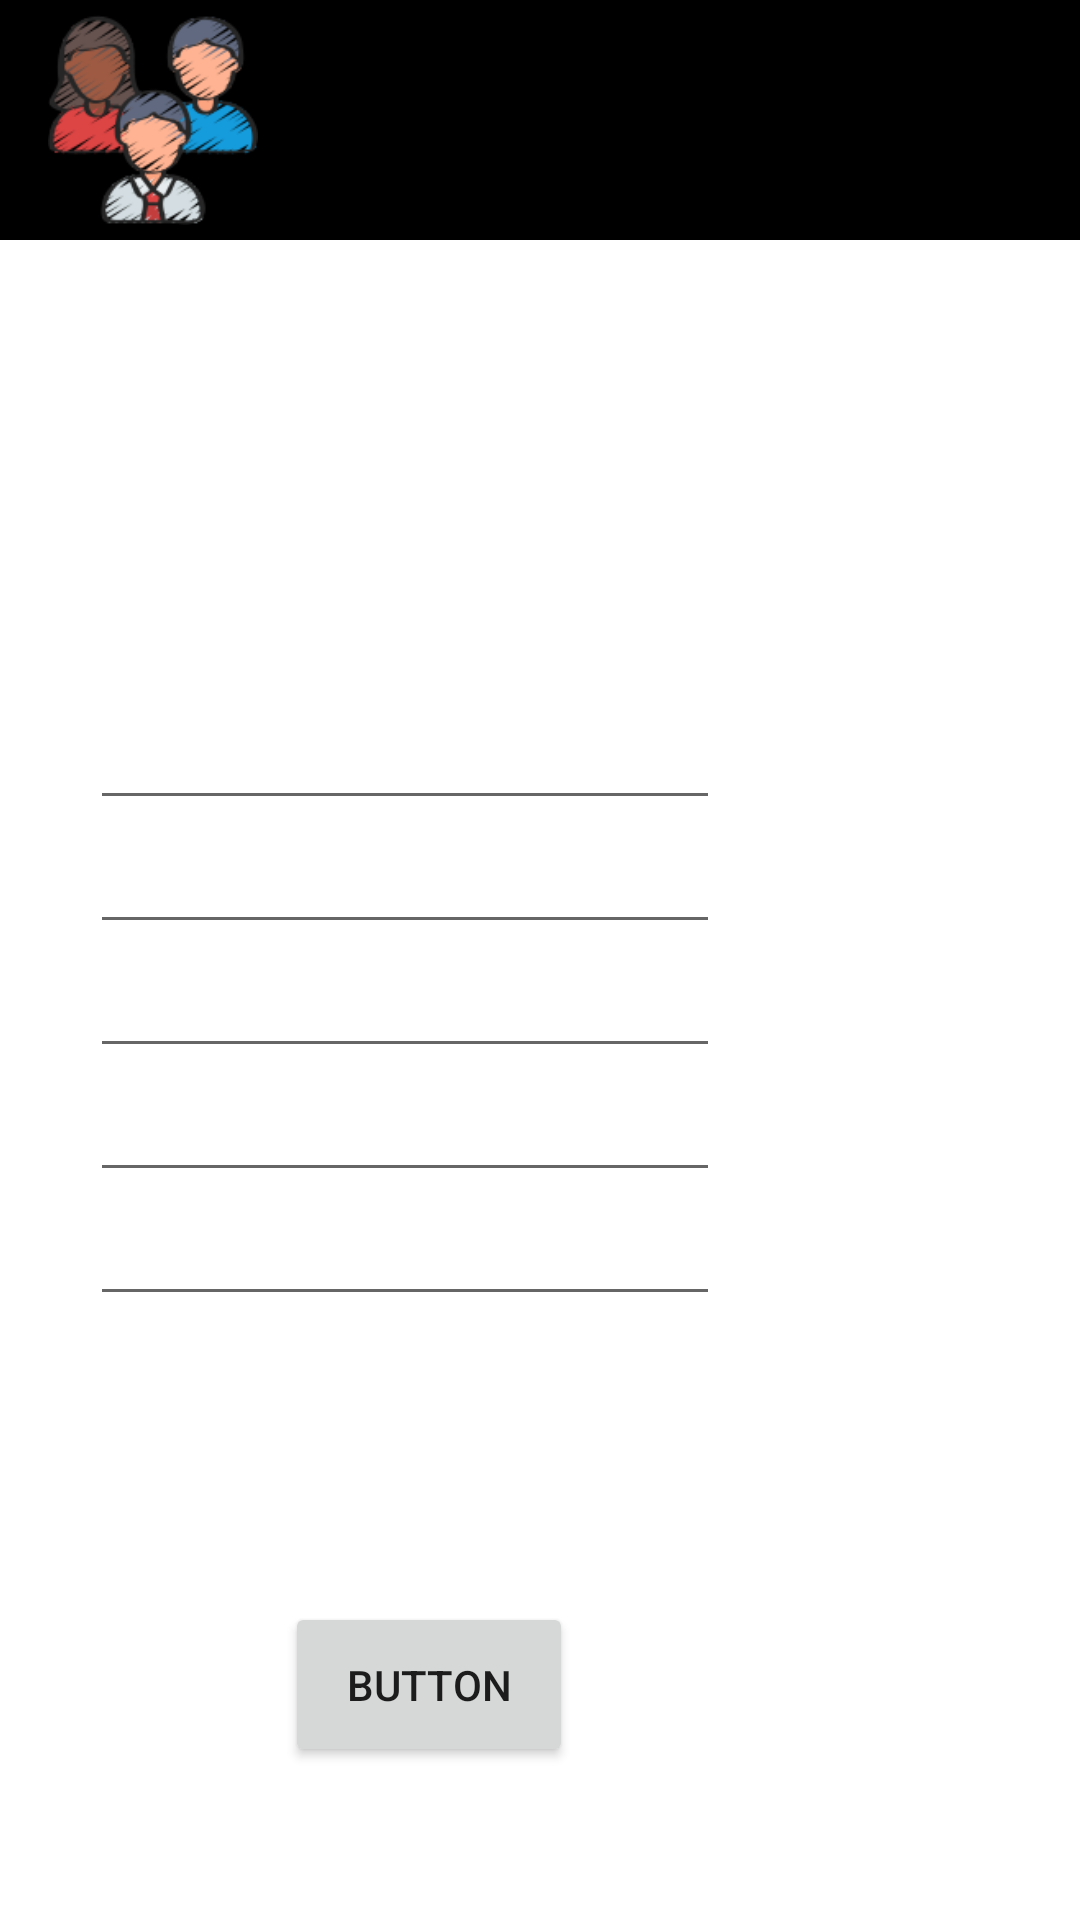

Named icons in this screenshot (1080px x 1920px) and their centers, (x,y):
cus: (153,120)
